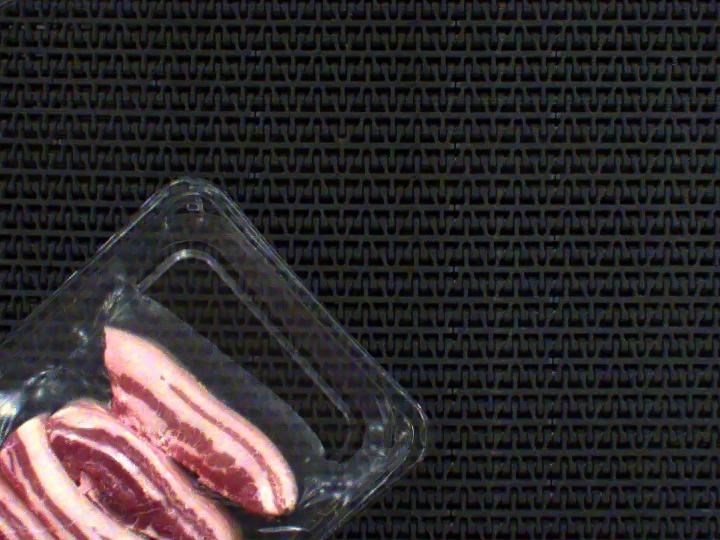unsealed: (0, 258, 341, 540)
